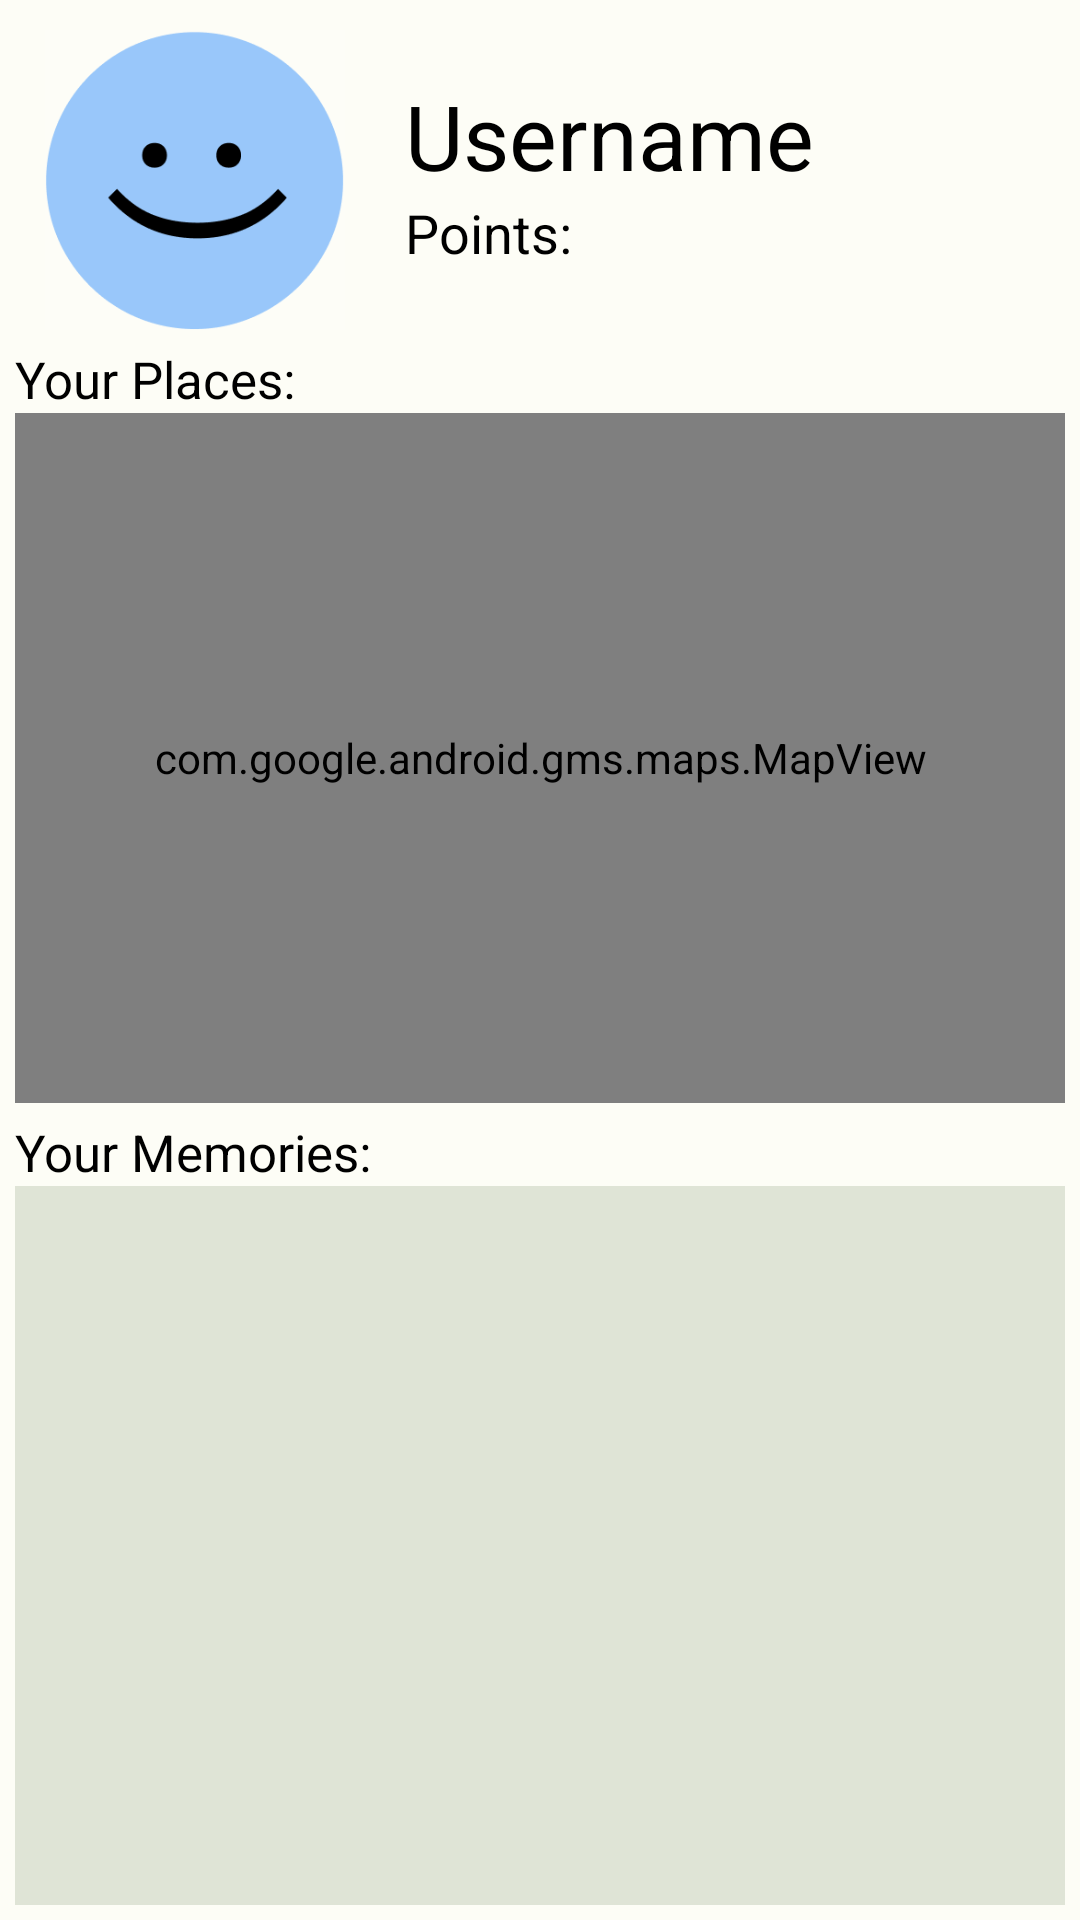

Locate icon controls on the screen. Image size 1080*1920, boxes as (x1, y1, x2, y2).
profile: (46, 32, 343, 329)
